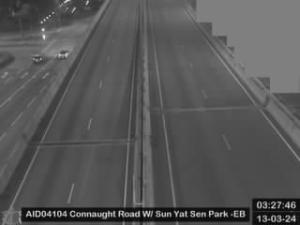vehicle: (32, 54, 42, 62), (57, 49, 66, 57)
